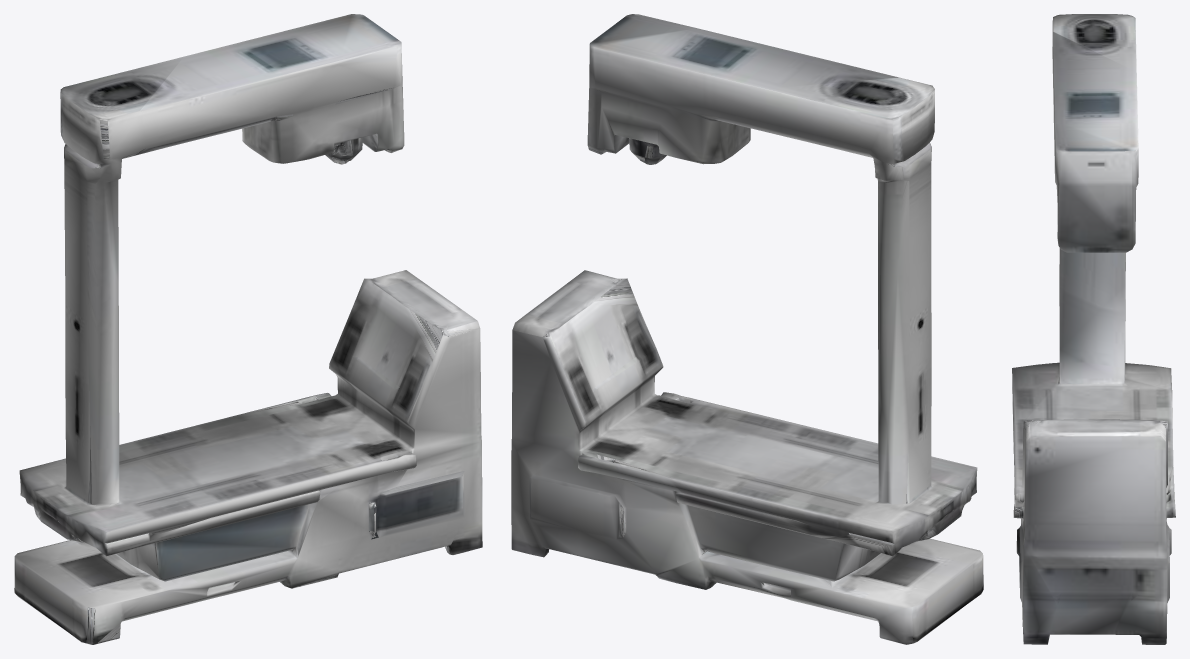
File: treatment-xrays.glb
3 views of the same model, side by side, from view 1: azimuth 30°, elevation 25°; view 2: azimuth 150°, elevation 25°; view 3: azimuth 270°, elevation 25° (orthographic). The views are drawn at different scales.
Parts seen in each view (by area): view 1: Xrays; view 2: Xrays; view 3: Xrays.
Boxes of the visible parts, bbox=[...] form: Xrays: bbox=[14, 14, 482, 644]; Xrays: bbox=[511, 14, 983, 644]; Xrays: bbox=[1012, 14, 1175, 644].
Bounding box in the file's own units: 1.32 × 1.61 × 0.5083.
Materials: 1 (1 with a texture image).
